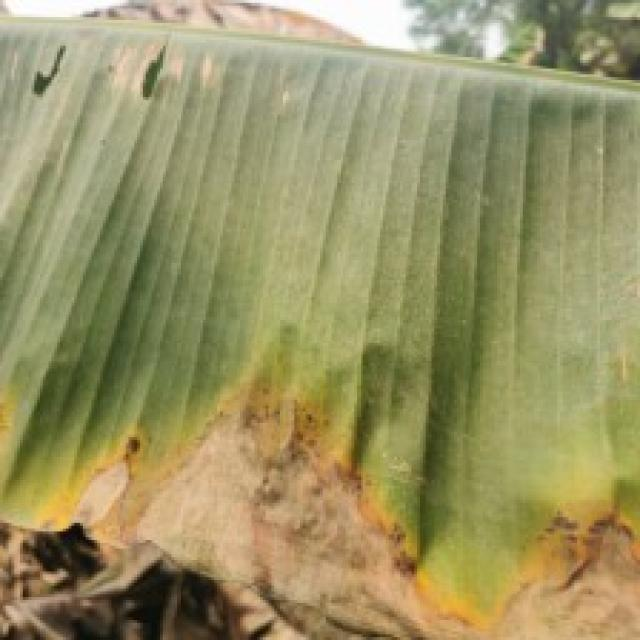Downey_mildrew: (0, 317, 640, 640), (17, 21, 245, 153)
